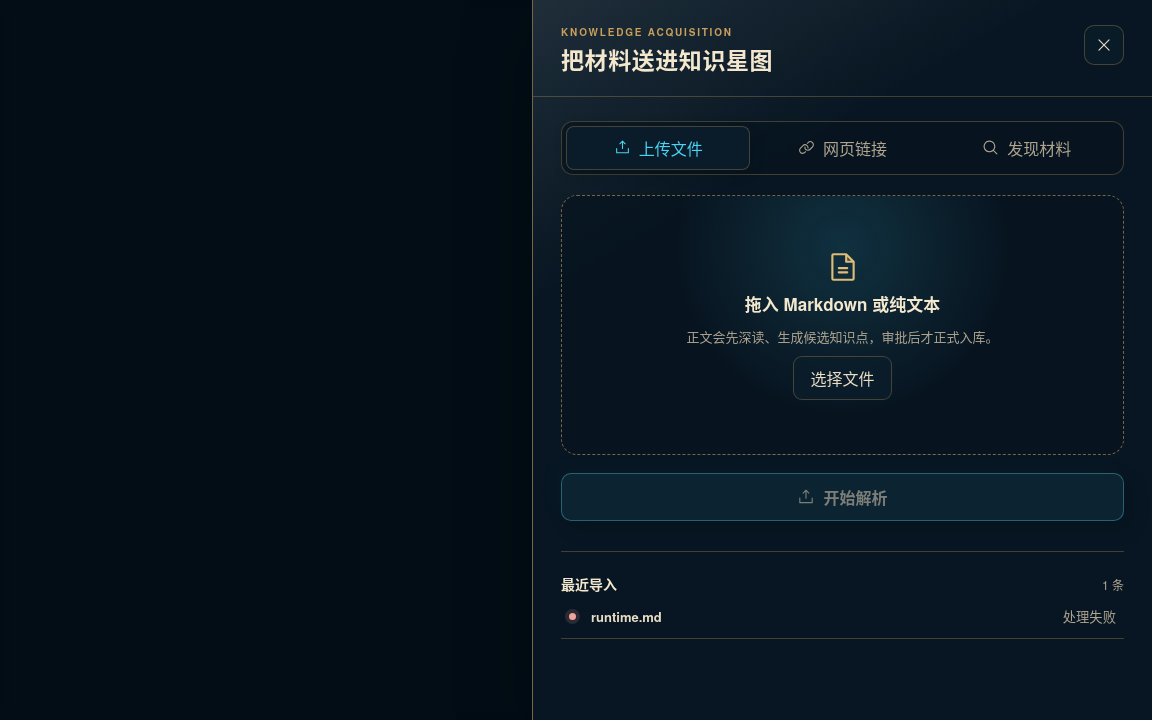
Test: shows the stable stage and code for a failed acquisition
This screenshot has width=1152, height=720.
Click the button "runtime.md 处理失败".
click(626, 616)  # box [561,595,1124,639]
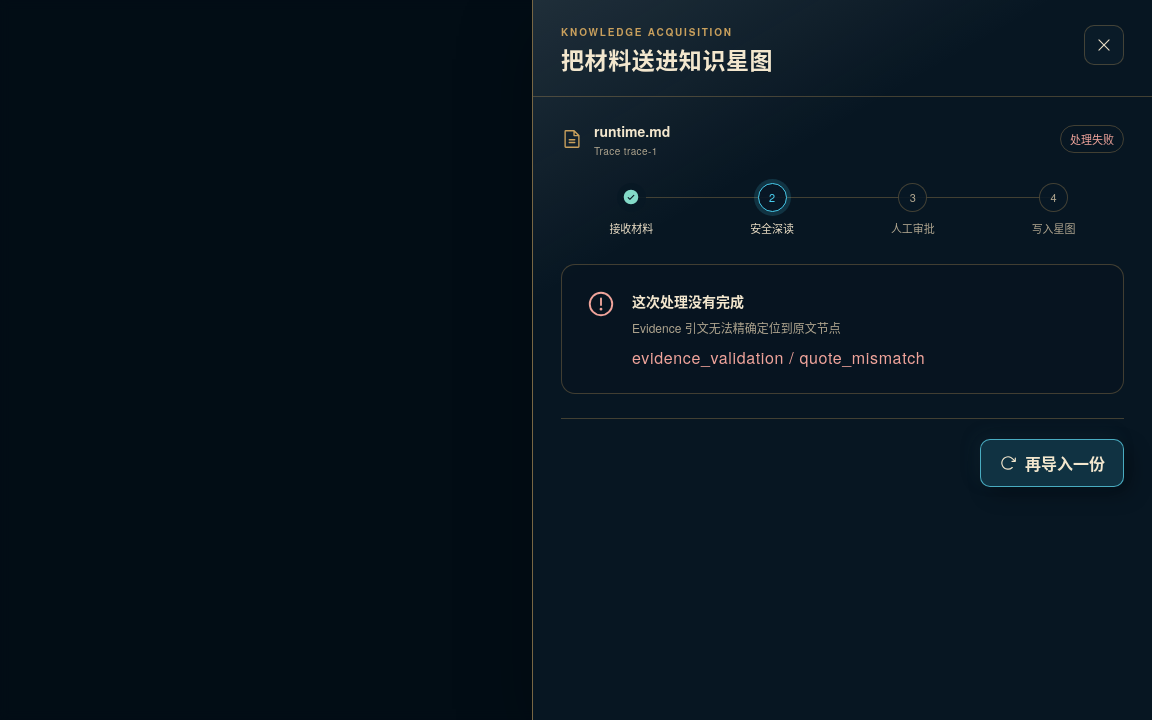
Expected: the text "Evidence 引文无法精确定位到原文节点" is shown, [632,319,841,336]
Expected: the text "evidence_validation / quote_mismatch" is shown, [632,346,925,369]
